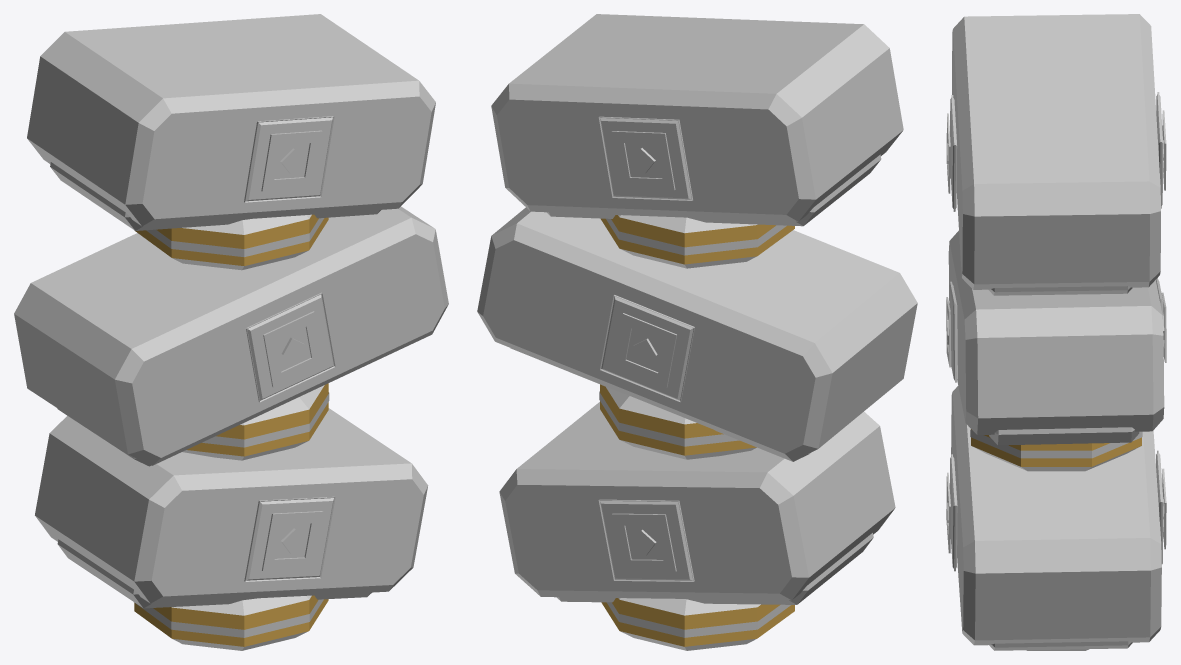
The model's file is wand_motion_05.obj.
The picture shows the model from 3 angles, left to right: view 1: azimuth 30°, elevation 25°; view 2: azimuth 150°, elevation 25°; view 3: azimuth 270°, elevation 25°; orthographic projection. The views are drawn at different scales.
Parts seen in each view (by area): view 1: chamfered_seal_tablet_2, chamfered_seal_tablet_1, chamfered_seal_tablet_0, tablet_spacer_0, tablet_spacer_2, inset_rune_socket_5, inset_rune_socket_1, inset_rune_socket_3, tablet_spacer_1, seal_shadow_base_0, seal_shadow_base_2, tablet_spacer_dark_seam_0 (+2 smaller); view 2: chamfered_seal_tablet_2, chamfered_seal_tablet_1, chamfered_seal_tablet_0, tablet_spacer_0, tablet_spacer_2, tablet_spacer_1, inset_rune_socket_2, inset_rune_socket_0, inset_rune_socket_4, seal_shadow_base_2, seal_shadow_base_0, tablet_spacer_dark_seam_0 (+2 smaller); view 3: chamfered_seal_tablet_2, chamfered_seal_tablet_0, chamfered_seal_tablet_1, tablet_spacer_1, seal_shadow_base_1, tablet_spacer_dark_seam_1, seal_shadow_base_2, seal_shadow_base_0, inset_rune_socket_1, inset_rune_socket_5, inset_rune_socket_3, inset_rune_socket_4 (+1 smaller).
Boxes of the visible parts, <box> form: chamfered_seal_tablet_2: <box>27,14,435,226</box>; chamfered_seal_tablet_1: <box>14,206,448,465</box>; chamfered_seal_tablet_0: <box>35,408,428,603</box>; tablet_spacer_0: <box>134,595,328,650</box>; tablet_spacer_2: <box>134,214,328,270</box>; inset_rune_socket_5: <box>244,116,334,202</box>; inset_rune_socket_1: <box>244,496,335,581</box>; inset_rune_socket_3: <box>246,292,335,402</box>; tablet_spacer_1: <box>182,383,328,460</box>; seal_shadow_base_0: <box>57,539,371,608</box>; seal_shadow_base_2: <box>50,162,380,230</box>; tablet_spacer_dark_seam_0: <box>134,599,323,637</box>; chamfered_seal_tablet_2: <box>491,14,903,221</box>; chamfered_seal_tablet_1: <box>477,207,917,461</box>; chamfered_seal_tablet_0: <box>499,402,895,600</box>; tablet_spacer_0: <box>601,598,794,650</box>; tablet_spacer_2: <box>601,215,794,268</box>; tablet_spacer_1: <box>600,384,756,459</box>; inset_rune_socket_2: <box>600,295,694,402</box>; inset_rune_socket_0: <box>598,499,694,581</box>; inset_rune_socket_4: <box>598,116,692,200</box>; seal_shadow_base_2: <box>547,154,881,226</box>; seal_shadow_base_0: <box>557,533,873,604</box>; tablet_spacer_dark_seam_0: <box>606,602,790,637</box>; chamfered_seal_tablet_2: <box>952,14,1160,289</box>; chamfered_seal_tablet_0: <box>951,386,1161,645</box>; chamfered_seal_tablet_1: <box>948,230,1164,434</box>; tablet_spacer_1: <box>971,429,1141,471</box>; seal_shadow_base_1: <box>989,427,1139,445</box>; tablet_spacer_dark_seam_1: <box>970,429,1142,458</box>; seal_shadow_base_2: <box>988,286,1132,295</box>; seal_shadow_base_0: <box>989,641,1132,650</box>; inset_rune_socket_1: <box>949,454,957,571</box>; inset_rune_socket_5: <box>950,95,957,211</box>; inset_rune_socket_3: <box>949,281,957,382</box>; inset_rune_socket_4: <box>1156,92,1163,208</box>.
Size of the model in its own units: 0.1996 by 0.316 by 0.1147.
